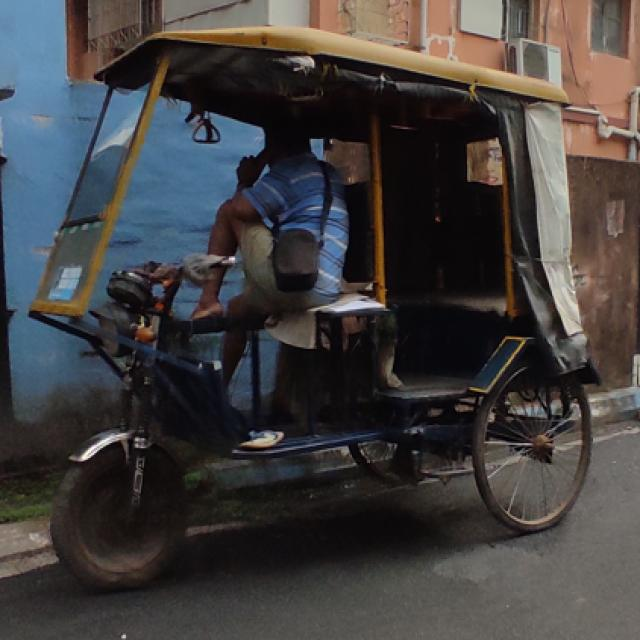rickshaw: (27, 25, 596, 600)
